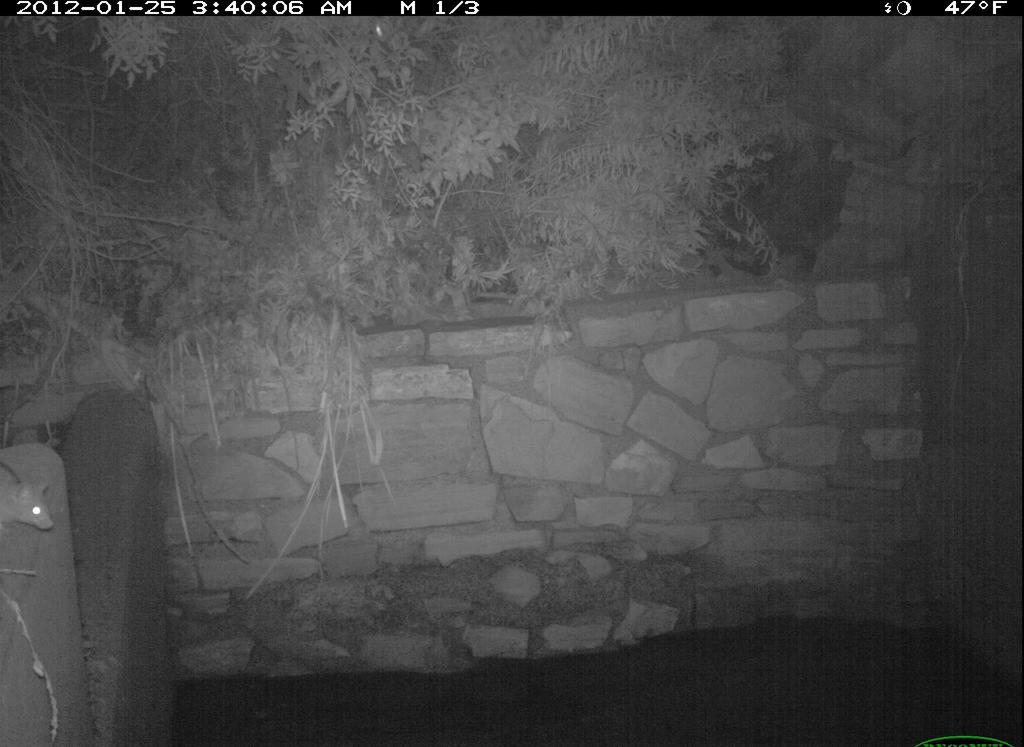rodent: (1, 455, 65, 535)
